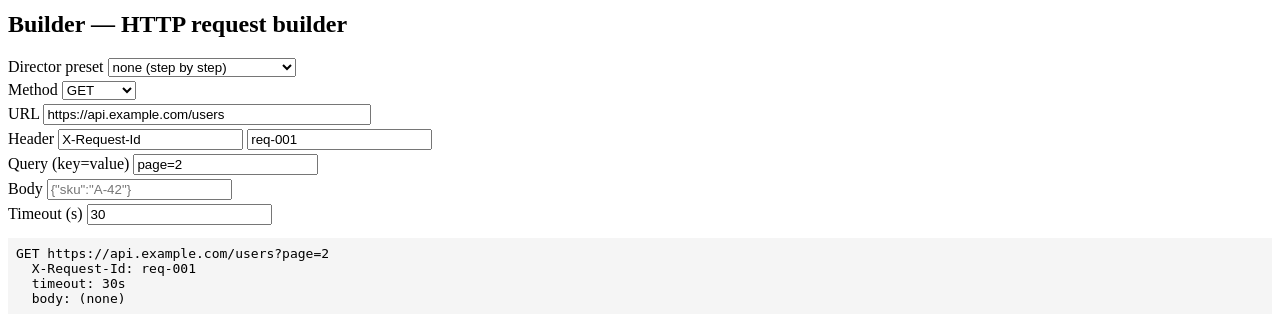
Test case: <BuilderDemo /> › reports an empty URL as an error
Step 1. Clear the field labelled "URL" → (207, 114), box x1=43 y1=104 x2=371 y2=125
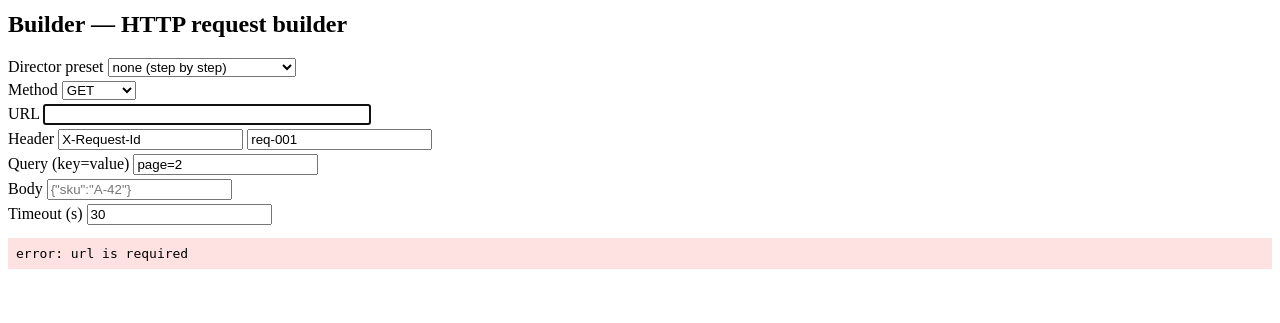
Now the text "error: url is required" is shown, box x1=8 y1=238 x2=1272 y2=269
